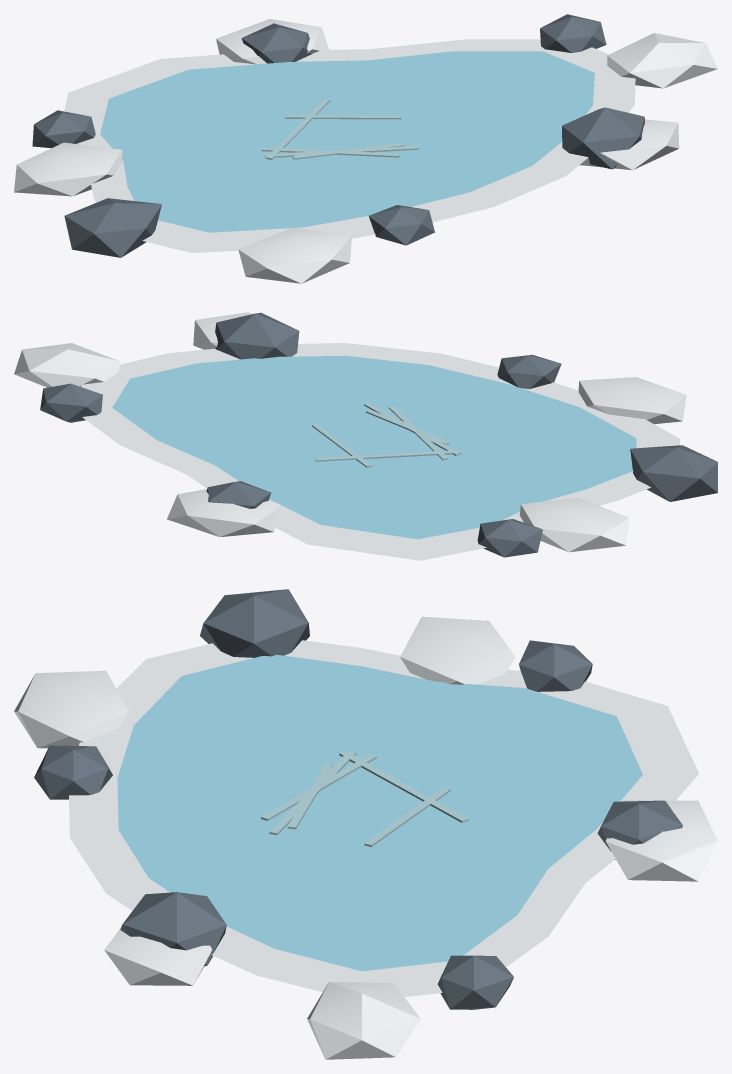
Rendered from FrozenPool.fbx.
The picture shows the model from 3 angles, top to bottom: view 1: azimuth 30°, elevation 25°; view 2: azimuth 150°, elevation 25°; view 3: azimuth 270°, elevation 25°; orthographic projection. The views are drawn at different scales.
Parts seen in each view (by area): view 1: FrozenPool; view 2: FrozenPool; view 3: FrozenPool.
Boxes of the visible parts, x1,y1,x2,y2 form: FrozenPool: (14,14,717,283); FrozenPool: (14,312,717,560); FrozenPool: (14,589,717,1059).
Bounding box in the file's own units: 4.91 × 0.3874 × 3.32.
